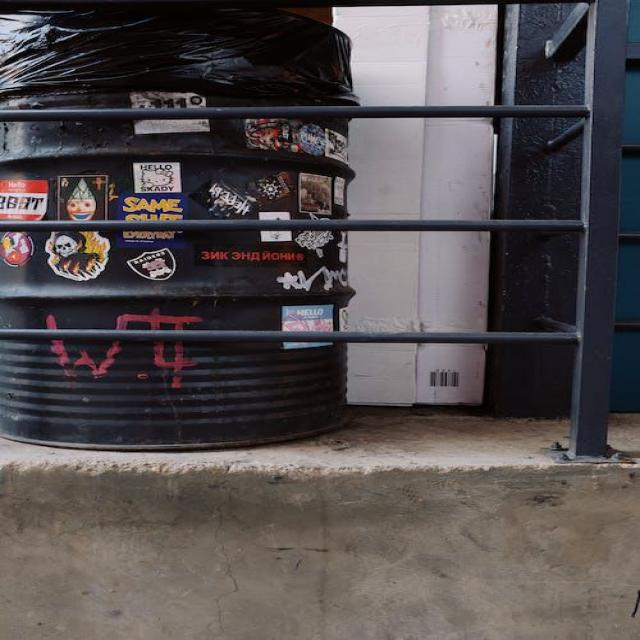metal: (21, 336, 339, 453)
